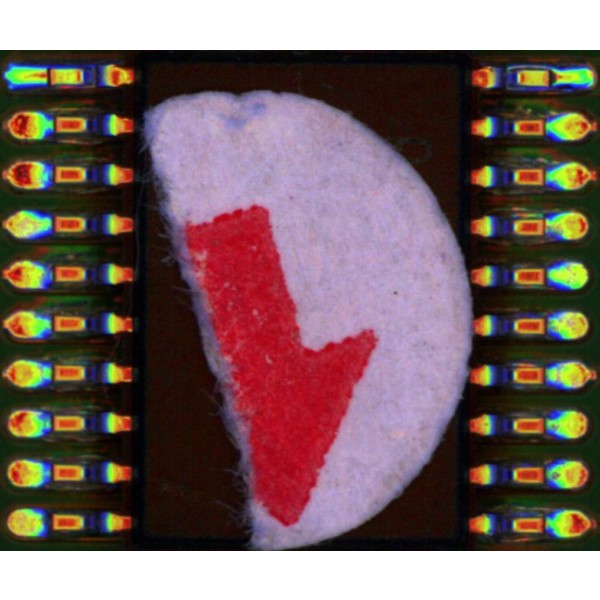Bad_podu: (32, 71, 64, 82), (542, 71, 569, 84)
Bad_qiaojiao: (507, 63, 550, 71)
